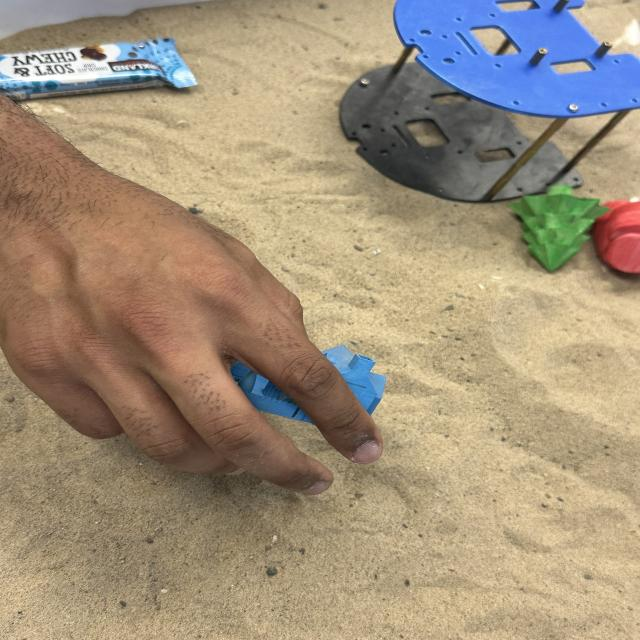house: (230, 343, 386, 425)
tree: (506, 183, 610, 273)
